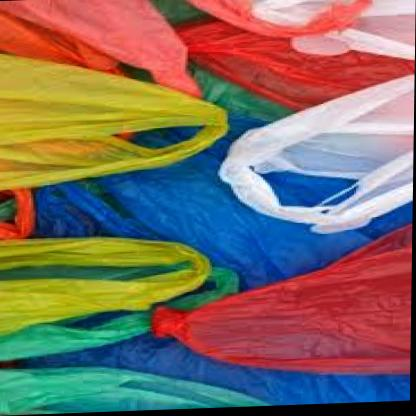Plastic: (5, 204, 414, 416), (0, 41, 224, 208), (242, 79, 411, 226), (208, 0, 416, 90)
